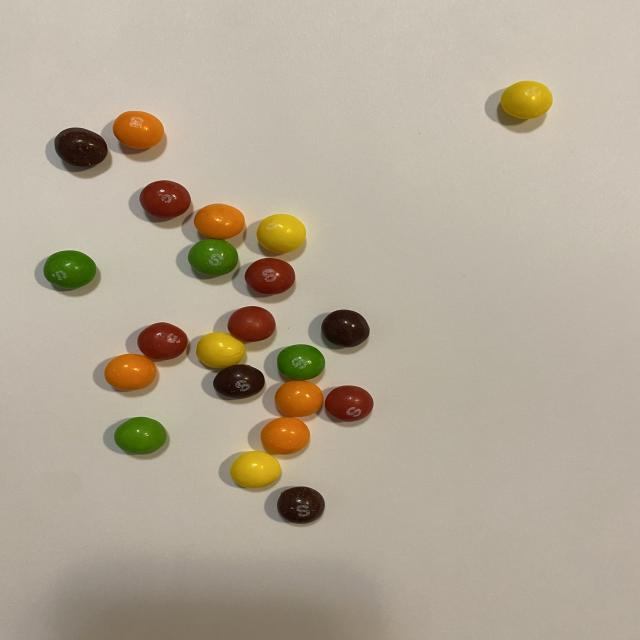smartie: (53, 127, 107, 166), (113, 417, 166, 455), (42, 250, 95, 288), (501, 80, 553, 118), (138, 180, 190, 218), (103, 354, 156, 391), (256, 214, 306, 253), (112, 110, 163, 148), (229, 452, 281, 489), (187, 238, 237, 276), (136, 323, 187, 360), (260, 418, 310, 455), (244, 258, 295, 294), (193, 203, 244, 239), (277, 487, 325, 525), (321, 310, 370, 347), (324, 386, 374, 422), (277, 344, 325, 381), (212, 365, 264, 399), (274, 381, 323, 417), (227, 306, 275, 342), (196, 333, 245, 368)
